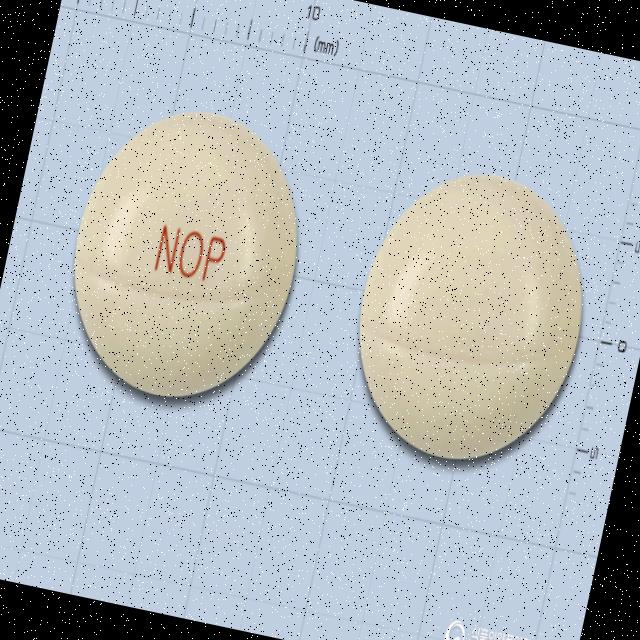Neopol Vaginal Soft Cap: (332, 150, 610, 482), (47, 88, 324, 420)
